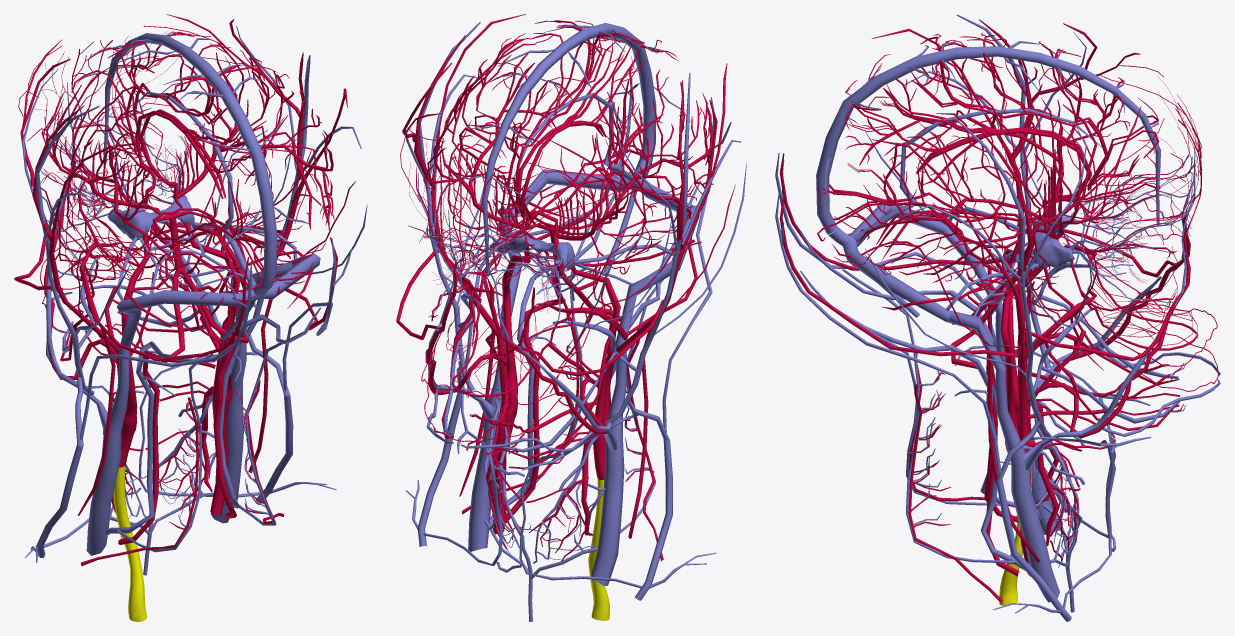
The model's file is Cardiovascular.glb.
3 renders of one model, left to right at view 1: azimuth 30°, elevation 25°; view 2: azimuth 150°, elevation 25°; view 3: azimuth 270°, elevation 25°, orthographic. The views are drawn at different scales.
Parts seen in each view (by area): view 1: superior_sagittal_sinus, left_internal_jugular_vein, left_superficial_temporal_artery, right_internal_jugular_vein, right_superficial_temporal_artery, left_common_carotid_artery, left_transverse_sinus, left_superficial_temporal_vein, left_vertebral_vein, right_vertebral_artery, left_vertebral_artery, right_vertebral_vein (+43 smaller); view 2: superior_sagittal_sinus, left_internal_jugular_vein, left_superficial_temporal_artery, right_internal_jugular_vein, right_superficial_temporal_artery, left_superficial_temporal_vein, right_vertebral_vein, left_external_jugular_vein, right_superficial_temporal_vein, right_vertebral_artery, right_transverse_sinus, right_internal_carotid (+51 smaller); view 3: superior_sagittal_sinus, right_internal_jugular_vein, right_superficial_temporal_artery, right_superficial_temporal_vein, left_superficial_temporal_artery, right_vertebral_vein, right_transverse_sinus, right_facial_vein, right_occipital_vein, right_external_jugular_vein, right_facial_artery, right_occipital_artery (+39 smaller).
Boxes of the visible parts, x1,y1,x2,y2 form: superior_sagittal_sinus: (103, 33, 277, 289); left_internal_jugular_vein: (86, 347, 129, 555); left_superficial_temporal_artery: (18, 39, 144, 304); right_internal_jugular_vein: (210, 319, 246, 523); right_superficial_temporal_artery: (143, 14, 347, 250); left_common_carotid_artery: (113, 466, 147, 621); left_transverse_sinus: (117, 284, 260, 312); left_superficial_temporal_vein: (22, 69, 99, 338); left_vertebral_vein: (105, 327, 241, 536); right_vertebral_artery: (180, 267, 248, 518); left_vertebral_artery: (118, 267, 184, 544); right_vertebral_vein: (218, 307, 320, 508); superior_sagittal_sinus: (482, 23, 656, 275); left_internal_jugular_vein: (591, 345, 626, 586); left_superficial_temporal_artery: (524, 63, 727, 314); right_internal_jugular_vein: (468, 316, 506, 551); right_superficial_temporal_artery: (400, 14, 525, 262); left_superficial_temporal_vein: (616, 73, 740, 354); right_vertebral_vein: (489, 161, 622, 525); left_external_jugular_vein: (635, 413, 672, 600); right_superficial_temporal_vein: (405, 22, 480, 308); right_vertebral_artery: (504, 272, 565, 523); right_transverse_sinus: (498, 169, 633, 222); right_internal_carotid: (502, 228, 530, 400); superior_sagittal_sinus: (816, 46, 1160, 234); right_internal_jugular_vein: (995, 369, 1059, 602); right_superficial_temporal_artery: (871, 104, 1185, 345); right_superficial_temporal_vein: (903, 119, 1086, 379); left_superficial_temporal_artery: (872, 19, 1185, 226); right_vertebral_vein: (800, 271, 1025, 570); right_transverse_sinus: (843, 237, 950, 321); right_facial_vein: (1024, 341, 1220, 470); right_occipital_vein: (775, 192, 1000, 474); right_external_jugular_vein: (996, 442, 1071, 621); right_facial_artery: (1026, 237, 1190, 438); right_occipital_artery: (779, 194, 1017, 357).
Size of the model in its own units: 0.0449 by 0.0801 by 0.056.
Materials: 4 (1 with a texture image).
